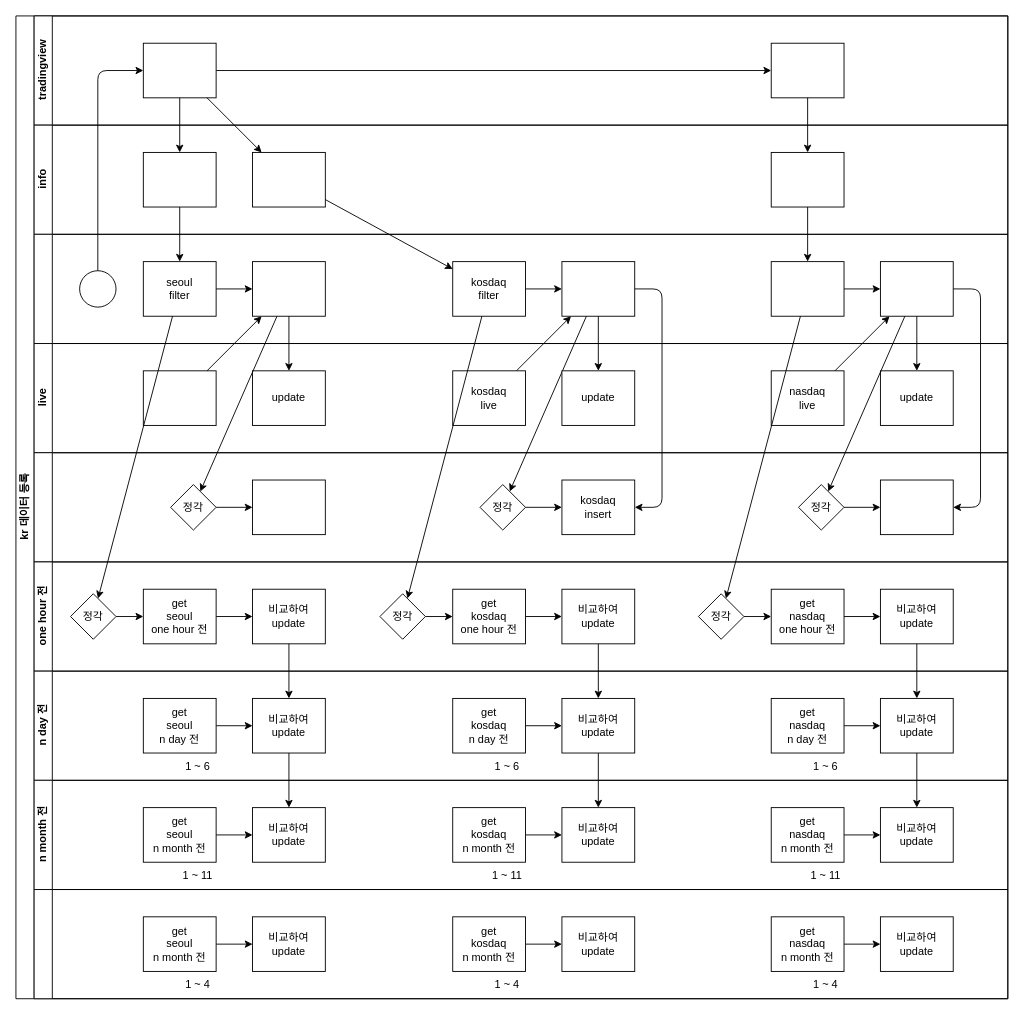
Some shapes in this 1024 by 1015 pixel diagram are drawn without their labels. Each missing label, with the box of its shape:
code: (33, 233, 1008, 344)
crawling kr: (142, 42, 216, 98)
crawling us: (770, 42, 844, 98)
history: (33, 452, 1008, 562)
kosdaq code: (252, 152, 325, 207)
n week 전: (33, 889, 1008, 999)
nasdaq code: (770, 152, 844, 207)
nasdaq filter: (770, 261, 844, 316)
nasdaq insert: (880, 479, 953, 535)
new kosdaq: (561, 261, 635, 316)
new nasdaq: (880, 261, 953, 316)
new seoul: (252, 261, 325, 316)
seoul code: (142, 152, 216, 207)
seoul insert: (252, 479, 325, 535)
seoul live: (142, 370, 216, 425)
